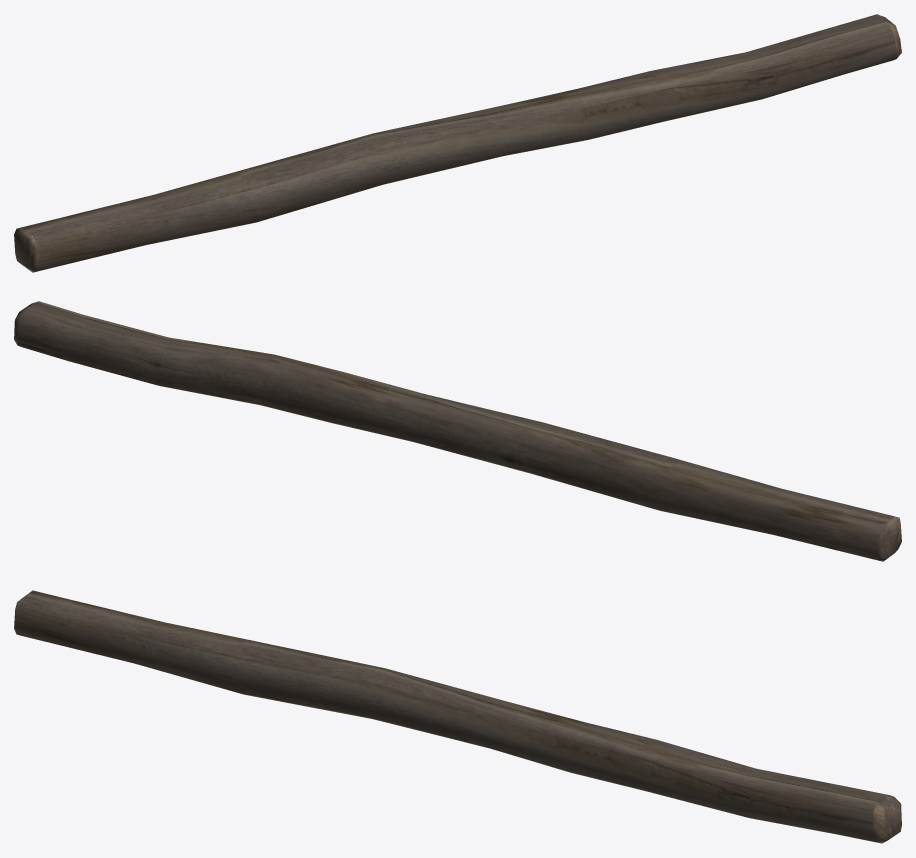
File: SM_log01.fbx
The picture shows the model from 3 angles, top to bottom: view 1: azimuth 30°, elevation 25°; view 2: azimuth 150°, elevation 25°; view 3: azimuth 330°, elevation 25°; orthographic projection.
Parts seen in each view (by area): view 1: SM_log01_LOD0; view 2: SM_log01_LOD0; view 3: SM_log01_LOD0.
Part boxes in pixels (x1,y1,x2,y2): SM_log01_LOD0: (14,14,901,272); SM_log01_LOD0: (14,301,901,561); SM_log01_LOD0: (14,590,901,843).
Size of the model in its own units: 322 by 18.05 by 17.14.
